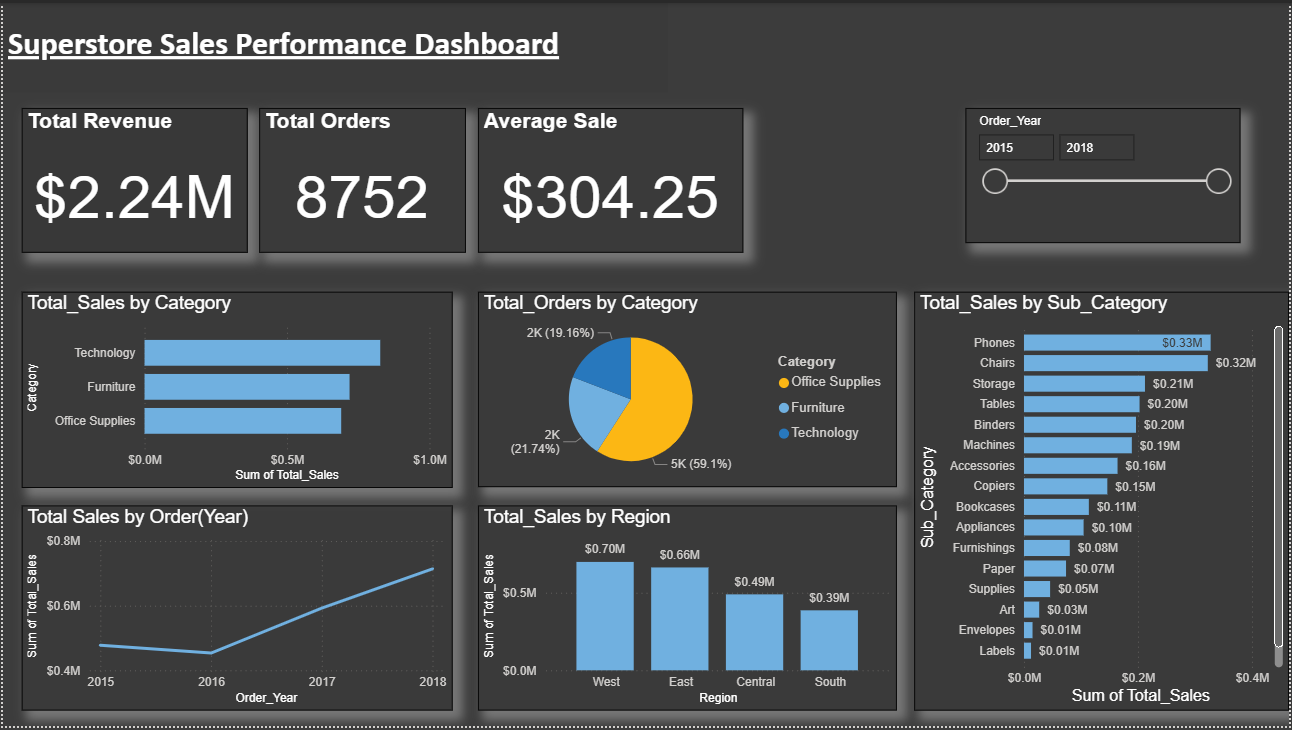

What the dashboard file says about the page in this screenshot:
{"tool":"powerbi","page":{"name":"Page 1","canvas":[1280,720],"ordinal":0},"visuals":[{"type":"card","title":"Total Revenue","fields":{"Values":["Sum(gold_sales_summary.Total_Sales)"]},"box":[18.7,104.5,225.2,144.3],"z":0},{"type":"card","title":"Total Orders","fields":{"Values":["Sum(gold_sales_summary.Total_Orders)"]},"box":[255,104.5,205.3,144.3],"z":1000},{"type":"lineChart","title":"Total Sales by Order(Year)","fields":{"Category":["gold_sales_summary.Order_Year"],"Y":["Sum(gold_sales_summary.Total_Sales)"]},"box":[18.7,500.1,429.2,204],"z":2000},{"type":"clusteredBarChart","title":"Total_Sales by Category","fields":{"Y":["Sum(gold_sales_summary.Total_Sales)"],"Category":["gold_sales_summary.Category"]},"box":[18.7,287.4,429.2,195.3],"z":3000},{"type":"columnChart","title":"Total_Sales by Region","fields":{"Y":["Sum(gold_sales_summary.Total_Sales)"],"Category":["gold_sales_summary.Region"]},"box":[472.7,500.1,416.7,204],"z":4000},{"type":"slicer","fields":{"Values":["gold_sales_summary.Order_Year"]},"box":[957.8,104.5,273.7,134.3],"z":5000},{"type":"textbox","box":[0,0,661.4,89.2],"z":5002},{"type":"barChart","title":"Total_Sales by Sub_Category","fields":{"Category":["gold_sales_summary.Sub_Category"],"Y":["Sum(gold_sales_summary.Total_Sales)"]},"box":[906.8,287.4,373.2,416.7],"z":5003},{"type":"card","title":"Average Sale","fields":{"Values":["Avg(gold_sales_summary.Avg_Sale_Value)"]},"box":[472.7,104.5,263.7,144.3],"z":5005},{"type":"pieChart","title":"Total_Orders by Category","fields":{"Category":["gold_sales_summary.Category"],"Y":["Sum(gold_sales_summary.Total_Orders)"]},"box":[472.7,287.4,416.7,194.1],"z":5006}]}

Visuals, with their boxes in screenshot pixels (x1, y1, x2, y2), scaled from the page's 1280x720 canvas onto the 1292x730 screenshot:
"Total Revenue" card: [19, 106, 246, 252]
"Total Orders" card: [257, 106, 465, 252]
"Total Sales by Order(Year)" lineChart: [19, 507, 452, 714]
"Total_Sales by Category" clusteredBarChart: [19, 291, 452, 489]
"Total_Sales by Region" columnChart: [477, 507, 898, 714]
slicer - gold_sales_summary.Order_Year: [967, 106, 1243, 242]
textbox: [0, 0, 668, 90]
"Total_Sales by Sub_Category" barChart: [915, 291, 1291, 714]
"Average Sale" card: [477, 106, 743, 252]
"Total_Orders by Category" pieChart: [477, 291, 898, 488]
